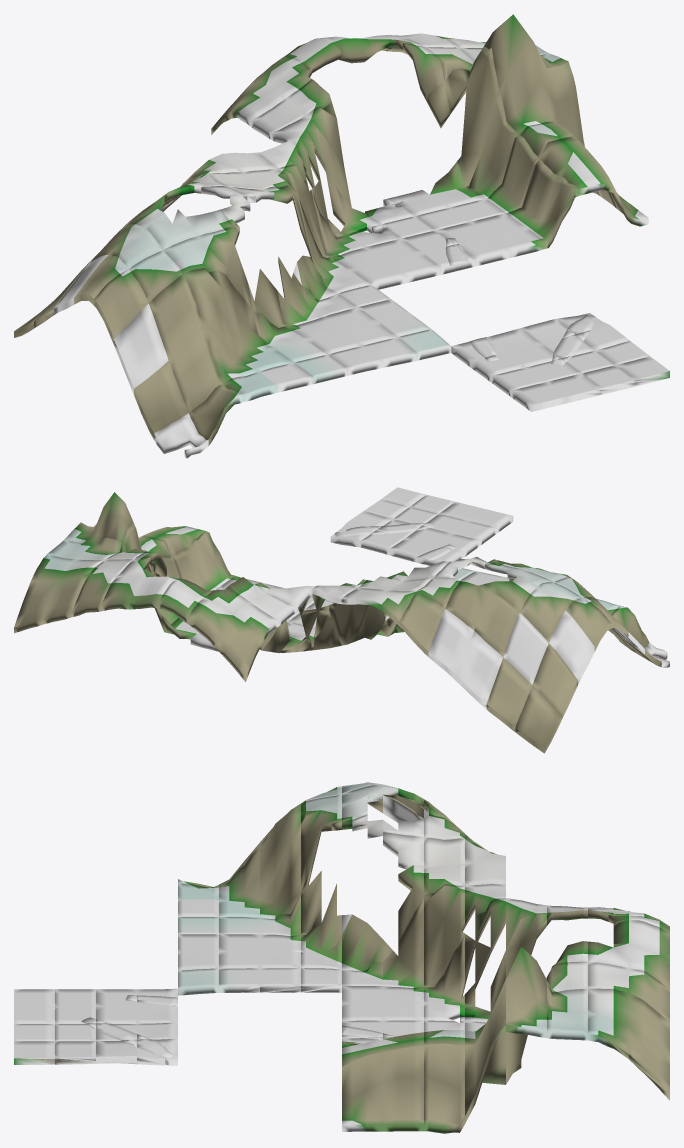
File: world-v7-beta-collision.fbx
3 renders of one model, top to bottom at view 1: azimuth 30°, elevation 25°; view 2: azimuth 150°, elevation 25°; view 3: azimuth 270°, elevation 25°, orthographic. The views are drawn at different scales.
Parts seen in each view (by area): view 1: W7C_CD_Ground_36_06, W7C_CD_Ground_35_12, W7C_CD_Ground_11_03, W7C_CD_Ground_11_07, W7C_CD_Ground_11_06, W7C_CD_Ground_35_08, W7C_CD_Ground_11_02, W7C_CD_Ground_35_16, W7C_CD_Ground_11_04, W7C_CD_Ground_11_11, W7C_CD_Ground_35_07, W7C_CD_Ground_11_15 (+84 smaller); view 2: W7C_CD_Ground_12_13, W7C_CD_Ground_12_08, W7C_CD_Ground_12_18, W7C_CD_Ground_12_03, W7C_CD_Ground_12_04, W7C_CD_Ground_12_07, W7C_CD_Ground_28_04, W7C_CD_Ground_12_02, W7C_CD_Ground_12_12, W7C_CD_Ground_19_04, W7C_CD_Ground_36_17, W7C_CD_Ground_35_05 (+54 smaller); view 3: W7C_CD_Ground_35_15, W7C_CD_Ground_35_14, W7C_CD_Ground_19_17, W7C_CD_Ground_35_13, W7C_CD_Ground_35_16, W7C_CD_Ground_19_16, W7C_CD_Ground_11_15, W7C_CD_Ground_36_14, W7C_CD_Ground_27_04, W7C_CD_Ground_19_10, W7C_CD_Ground_11_11, W7C_CD_Ground_36_17 (+77 smaller).
Part boxes in pixels (x1,y1,x2,y2): W7C_CD_Ground_36_06: (444,46,498,186); W7C_CD_Ground_35_12: (499,42,553,134); W7C_CD_Ground_11_03: (114,304,168,394); W7C_CD_Ground_11_07: (148,274,203,359); W7C_CD_Ground_11_06: (169,328,222,412); W7C_CD_Ground_35_08: (465,90,518,198); W7C_CD_Ground_11_02: (134,360,188,439); W7C_CD_Ground_35_16: (534,43,584,146); W7C_CD_Ground_11_04: (94,269,148,344); W7C_CD_Ground_11_11: (183,268,237,356); W7C_CD_Ground_35_07: (485,135,538,213); W7C_CD_Ground_11_15: (218,269,272,356); W7C_CD_Ground_12_13: (457,631,503,709); W7C_CD_Ground_12_08: (486,657,531,732); W7C_CD_Ground_12_18: (428,609,473,682); W7C_CD_Ground_12_03: (532,643,577,720); W7C_CD_Ground_12_04: (515,685,561,753); W7C_CD_Ground_12_07: (503,613,548,684); W7C_CD_Ground_28_04: (216,615,262,681); W7C_CD_Ground_12_02: (549,610,594,684); W7C_CD_Ground_12_12: (474,590,519,656); W7C_CD_Ground_19_04: (399,591,444,656); W7C_CD_Ground_36_17: (14,580,59,633); W7C_CD_Ground_35_05: (189,531,234,587); W7C_CD_Ground_35_15: (424,1043,464,1133); W7C_CD_Ground_35_14: (383,1045,423,1131); W7C_CD_Ground_19_17: (424,884,464,987); W7C_CD_Ground_35_13: (342,1052,382,1131); W7C_CD_Ground_35_16: (465,979,505,1123); W7C_CD_Ground_19_16: (383,896,423,988); W7C_CD_Ground_11_15: (260,825,300,919); W7C_CD_Ground_36_14: (506,974,546,1038); W7C_CD_Ground_27_04: (465,898,505,1006); W7C_CD_Ground_19_10: (342,914,382,971); W7C_CD_Ground_11_11: (260,804,300,899); W7C_CD_Ground_36_17: (629,1025,669,1100).
Size of what is drawn, in the model's own units: 12800 by 4442 by 12800.
